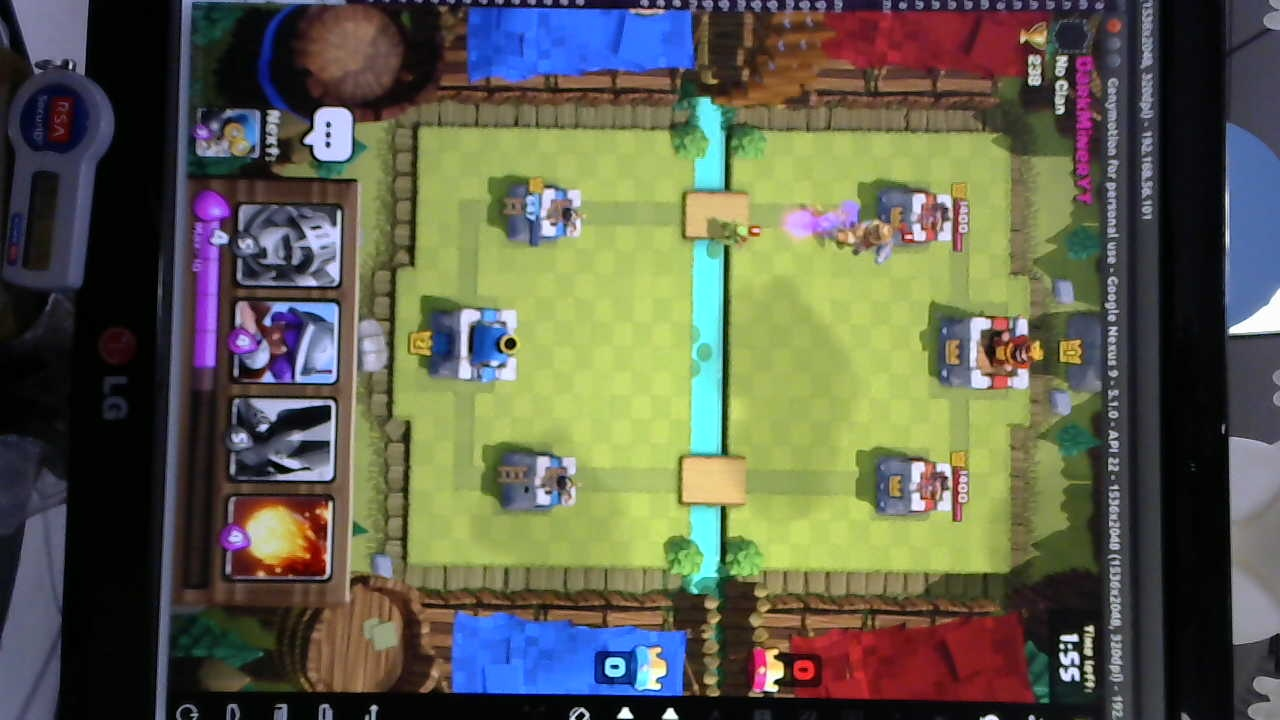arena: (506, 182, 589, 244), (497, 451, 579, 510)
earena: (870, 186, 957, 250), (872, 452, 955, 519)
eking: (932, 314, 1040, 392)
king: (424, 302, 525, 384)
prince: (836, 217, 894, 263)
speargoblin: (712, 214, 758, 248)
